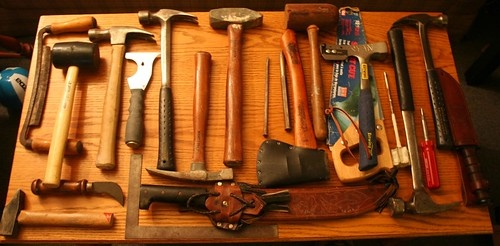hammer: (382, 28, 458, 216), (136, 8, 192, 169), (208, 6, 263, 165), (395, 9, 458, 145), (90, 27, 148, 170), (285, 2, 343, 141), (45, 41, 97, 188), (2, 187, 115, 236)
